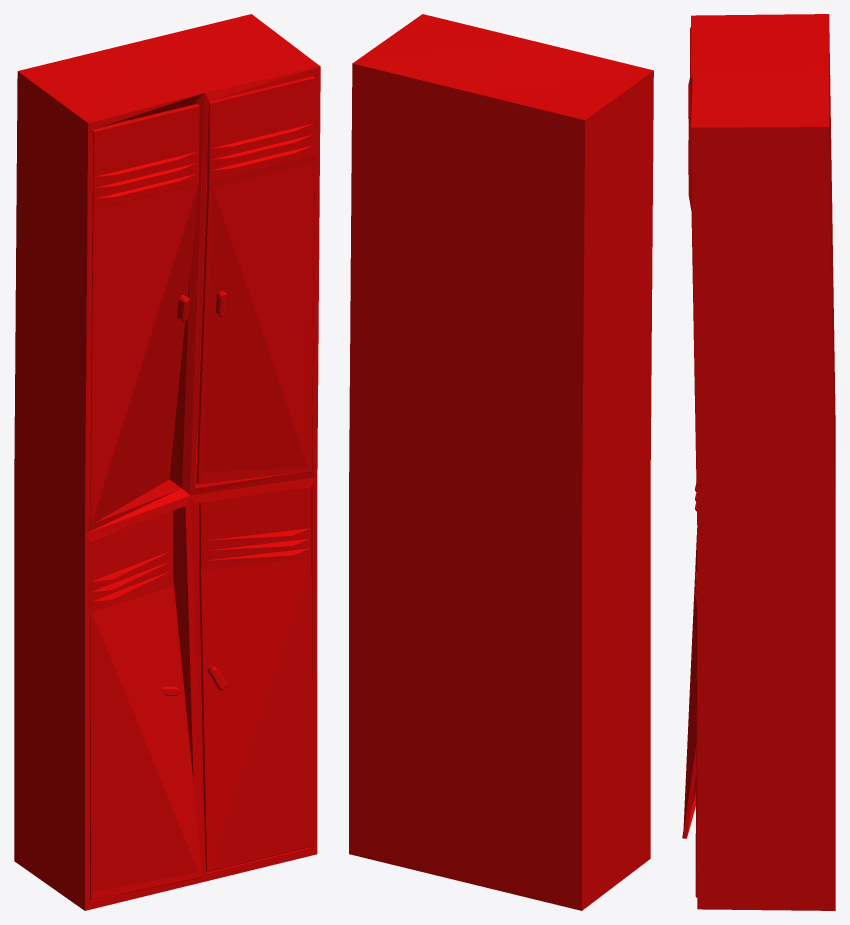
The model's file is casier_broken.fbx.
3 views of the same model, side by side, from view 1: azimuth 30°, elevation 25°; view 2: azimuth 150°, elevation 25°; view 3: azimuth 270°, elevation 25° (orthographic).
Parts seen in each view (by area): view 1: pCube51; view 2: pCube51; view 3: pCube51.
Boxes of the visible parts, x1,y1,x2,y2 form: pCube51: (14,14,320,910); pCube51: (349,14,653,910); pCube51: (682,14,835,910).
Bounding box in the file's own units: 58.55 × 189 × 33.57.
